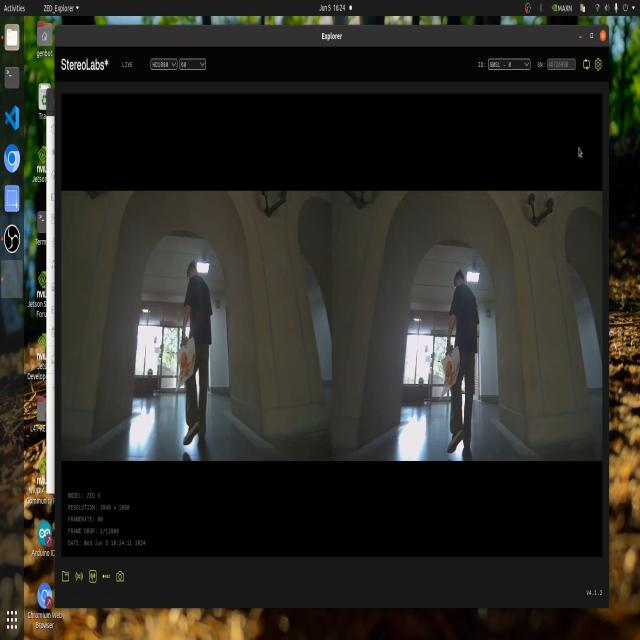red: (176, 342, 192, 380), (442, 352, 454, 389)
